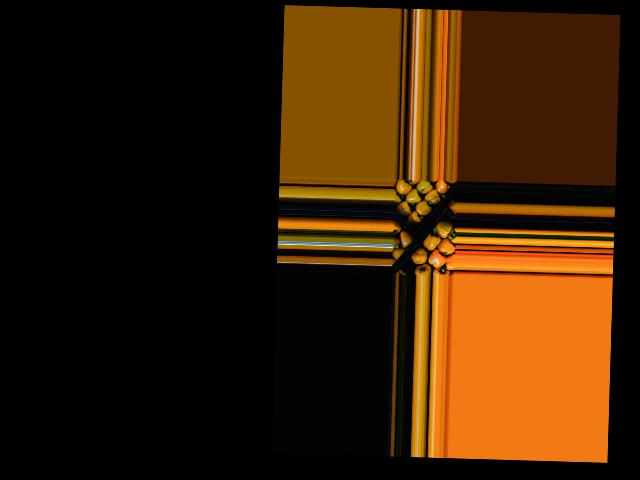bell_pepper: (392, 179, 409, 198)
